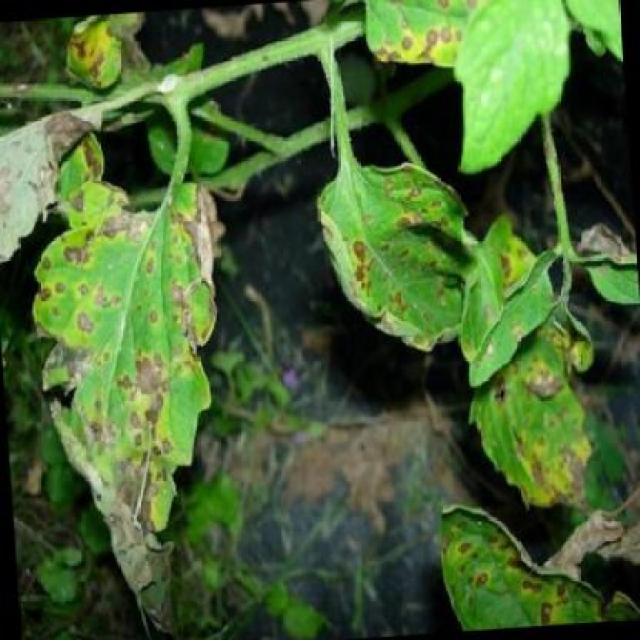Septoria leaf spot: (12, 144, 256, 598), (466, 206, 623, 559), (298, 135, 480, 363), (405, 459, 606, 630)
